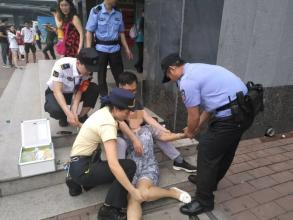10+: (1, 2, 252, 220)
down: (117, 102, 191, 220)
